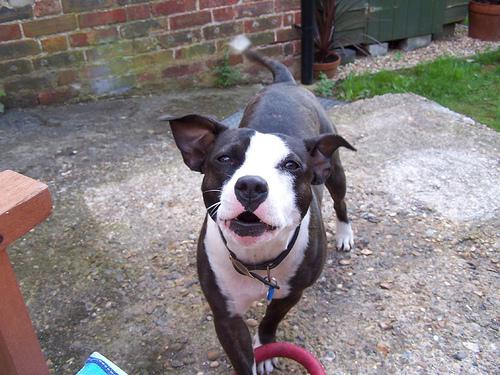dog-staffordshire_bull_terrier: (156, 113, 354, 246)
